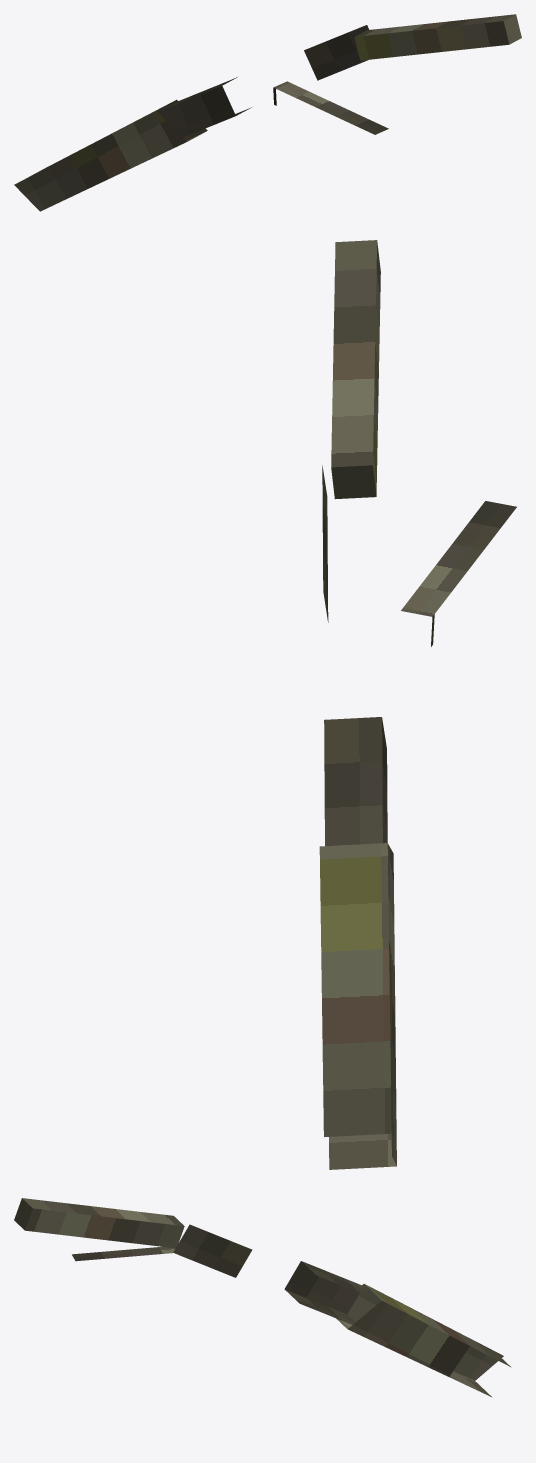
Rendered from larch_twig_branch_up_diagonal_9.obj.
3 views of the same model, one above another, from view 1: azimuth 30°, elevation 25°; view 2: azimuth 150°, elevation 25°; view 3: azimuth 270°, elevation 25° (orthographic). The views are drawn at different scales.
Visible parts, largest first — view 1: cube; view 2: cube; view 3: cube.
Part boxes in pixels (x1,y1,x2,y2): cube: (14, 14, 521, 211); cube: (319, 240, 516, 1169); cube: (14, 1198, 511, 1397).
Bounding box in the file's own units: 1.66 × 1.39 × 2.13.
